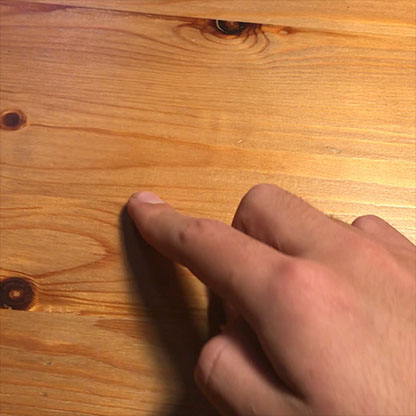fingertip: (124, 182, 177, 223)
